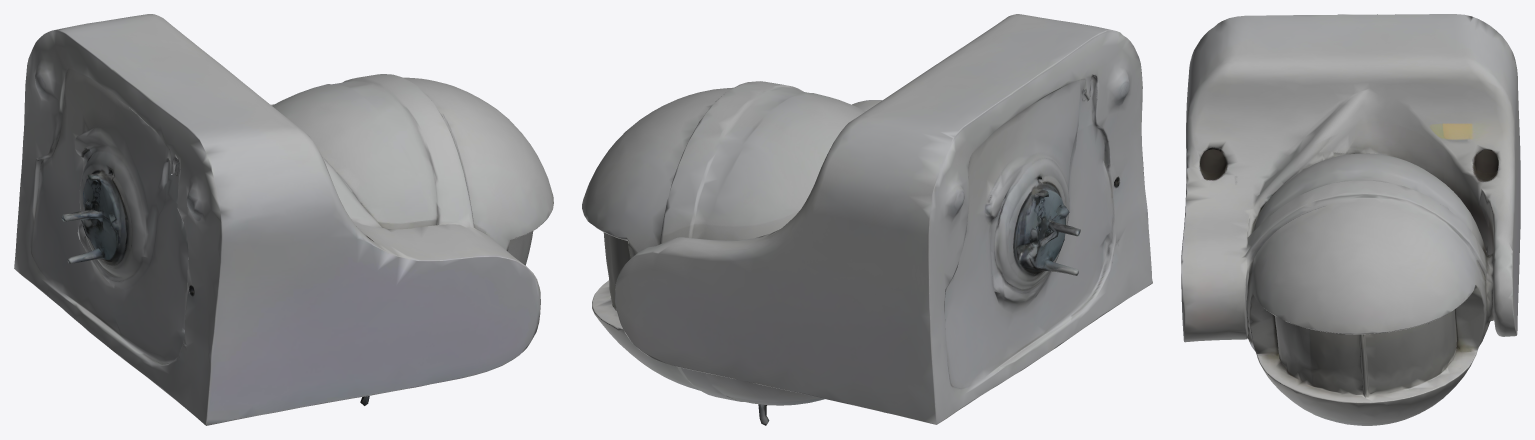
The model's file is white motion sensor 3d model.glb.
The picture shows the model from 3 angles, left to right: view 1: azimuth 30°, elevation 25°; view 2: azimuth 150°, elevation 25°; view 3: azimuth 270°, elevation 25°; orthographic projection. The views are drawn at different scales.
Visible parts, largest first — view 1: tripo_node_15cabb99-758a-46a1-9838-795ab5a715c2; view 2: tripo_node_15cabb99-758a-46a1-9838-795ab5a715c2; view 3: tripo_node_15cabb99-758a-46a1-9838-795ab5a715c2.
Boxes of the visible parts, bbox=[...] form: tripo_node_15cabb99-758a-46a1-9838-795ab5a715c2: bbox=[14, 14, 553, 425]; tripo_node_15cabb99-758a-46a1-9838-795ab5a715c2: bbox=[582, 14, 1152, 425]; tripo_node_15cabb99-758a-46a1-9838-795ab5a715c2: bbox=[1181, 14, 1520, 425].
Size of the model in its own units: 0.9996 by 0.7669 by 0.7737.
1 material, 1 textured.
